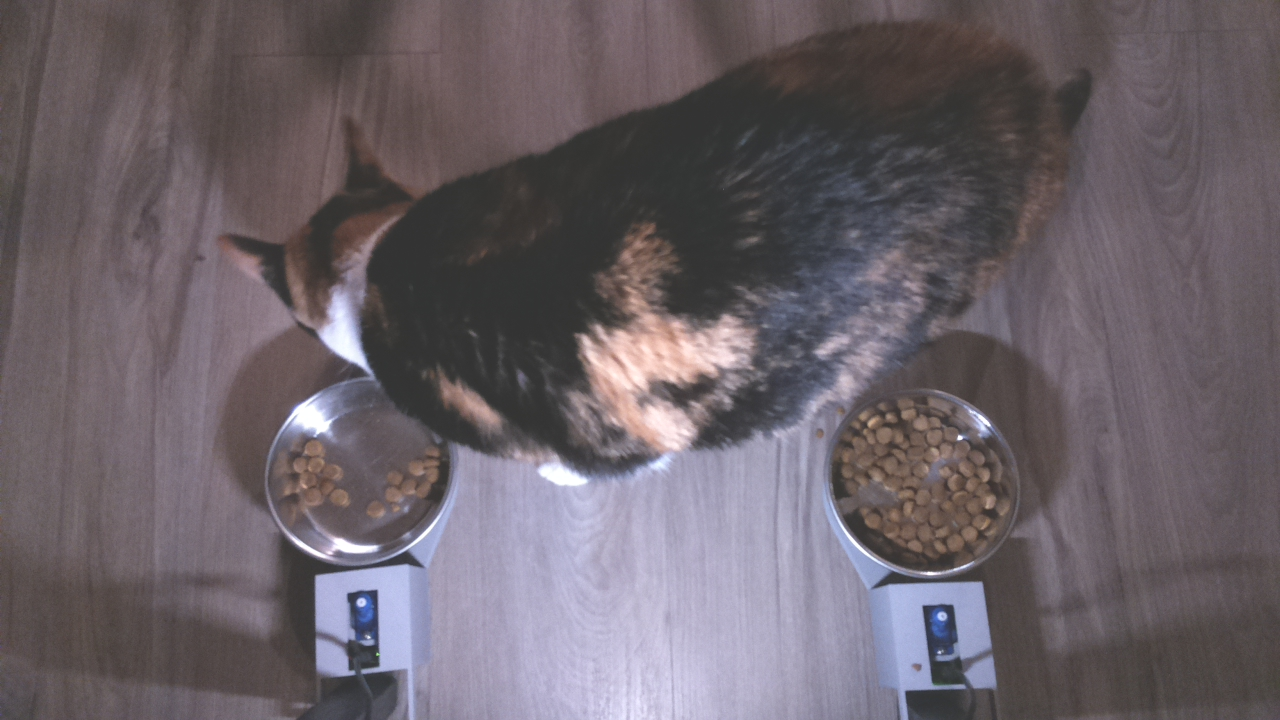bella: (206, 111, 454, 364)
open_bowl: (818, 384, 1027, 587), (257, 376, 469, 573)
